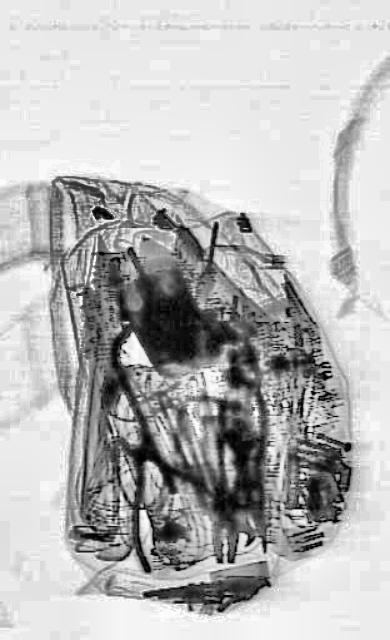Pliers: (98, 398, 215, 576), (199, 433, 245, 563)
